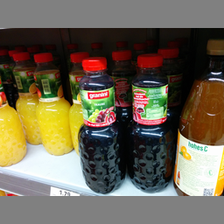juice: (171, 38, 224, 196), (77, 56, 127, 195), (126, 53, 172, 193), (32, 52, 72, 155)
